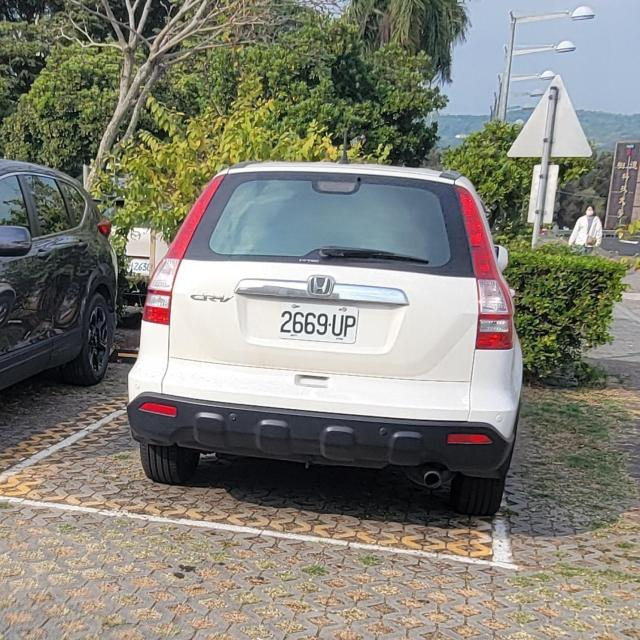W: (276, 301, 361, 345)
